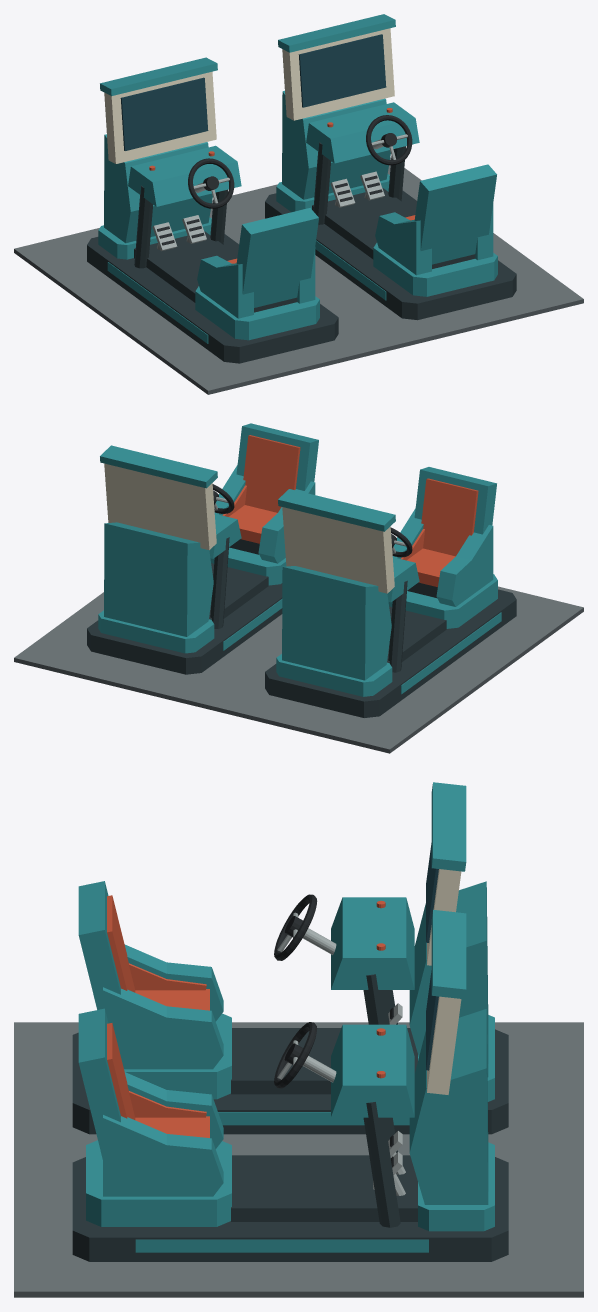
3 views of the same model, one above another, from view 1: azimuth 30°, elevation 25°; view 2: azimuth 150°, elevation 25°; view 3: azimuth 270°, elevation 25° (orthographic). The views are drawn at different scales.
Parts seen in each view (by area): view 1: SCENE_ONLY__TwinRacerFloor, left__SharedBase_Continuous, right__Seat_BackShell, left__Seat_BackShell, right__SharedBase_Continuous, right__Screen_Runtime, left__Screen_Runtime, left__Display_Cabinet, right__Display_Cabinet, left__Console_Deck, right__Console_Deck, left__Seat_LowerShell (+21 smaller); view 2: SCENE_ONLY__TwinRacerFloor, left__Display_Cabinet, right__Display_Cabinet, left__SharedBase_Continuous, right__Display_BezelHousing, left__Display_BezelHousing, right__SharedBase_Continuous, left__Seat_BackCushion, right__Seat_BackCushion, left__Seat_SideBolster_Left, left__Display_TopVisor, right__Display_TopVisor (+19 smaller); view 3: SCENE_ONLY__TwinRacerFloor, right__SharedBase_Continuous, right__Display_Cabinet, right__Footwell_Floor, right__Seat_SideBolster_Right, right__Console_Deck, left__Seat_SideBolster_Right, left__Console_Deck, left__SharedBase_Continuous, right__Seat_LowerShell, left__Footwell_Floor, left__Display_Cabinet (+24 smaller).
Part boxes in pixels (x1=…): SCENE_ONLY__TwinRacerFloor: x1=14, y1=157, x2=583, y2=394; left__SharedBase_Continuous: x1=87, y1=234, x2=338, y2=363; right__Seat_BackShell: x1=414, y1=164, x2=496, y2=264; left__Seat_BackShell: x1=236, y1=208, x2=318, y2=307; right__SharedBase_Continuous: x1=265, y1=190, x2=516, y2=320; right__Screen_Runtime: x1=298, y1=34, x2=386, y2=107; left__Screen_Runtime: x1=120, y1=77, x2=208, y2=150; left__Display_Cabinet: x1=104, y1=134, x2=212, y2=243; right__Display_Cabinet: x1=282, y1=90, x2=390, y2=199; left__Console_Deck: x1=128, y1=145, x2=241, y2=206; right__Console_Deck: x1=306, y1=102, x2=419, y2=163; left__Seat_LowerShell: x1=195, y1=286, x2=319, y2=340; SCENE_ONLY__TwinRacerFloor: x1=14, y1=586, x2=583, y2=753; left__Display_Cabinet: x1=282, y1=566, x2=391, y2=680; right__Display_Cabinet: x1=104, y1=522, x2=213, y2=636; left__SharedBase_Continuous: x1=265, y1=589, x2=516, y2=717; right__Display_BezelHousing: x1=104, y1=463, x2=216, y2=550; left__Display_BezelHousing: x1=282, y1=507, x2=394, y2=593; right__SharedBase_Continuous: x1=87, y1=583, x2=282, y2=674; left__Seat_BackCushion: x1=421, y1=478, x2=478, y2=556; right__Seat_BackCushion: x1=243, y1=435, x2=300, y2=512; left__Seat_SideBolster_Left: x1=436, y1=525, x2=493, y2=606; left__Display_TopVisor: x1=278, y1=489, x2=395, y2=531; right__Display_TopVisor: x1=100, y1=445, x2=217, y2=488; SCENE_ONLY__TwinRacerFloor: x1=14, y1=1022, x2=583, y2=1297; right__SharedBase_Continuous: x1=72, y1=1155, x2=508, y2=1261; right__Display_Cabinet: x1=409, y1=1009, x2=488, y2=1204; right__Footwell_Floor: x1=231, y1=1157, x2=417, y2=1221; right__Seat_SideBolster_Right: x1=103, y1=1115, x2=223, y2=1196; right__Console_Deck: x1=331, y1=1024, x2=414, y2=1117; left__Seat_SideBolster_Right: x1=103, y1=987, x2=223, y2=1069; left__Console_Deck: x1=331, y1=897, x2=414, y2=989; left__SharedBase_Continuous: x1=72, y1=1028, x2=508, y2=1134; right__Seat_LowerShell: x1=86, y1=1140, x2=231, y2=1226; left__Footwell_Floor: x1=231, y1=1029, x2=417, y2=1094; left__Display_Cabinet: x1=409, y1=881, x2=488, y2=1076.
Bounding box in the file's own units: 3.8 × 1.84 × 3.4.
